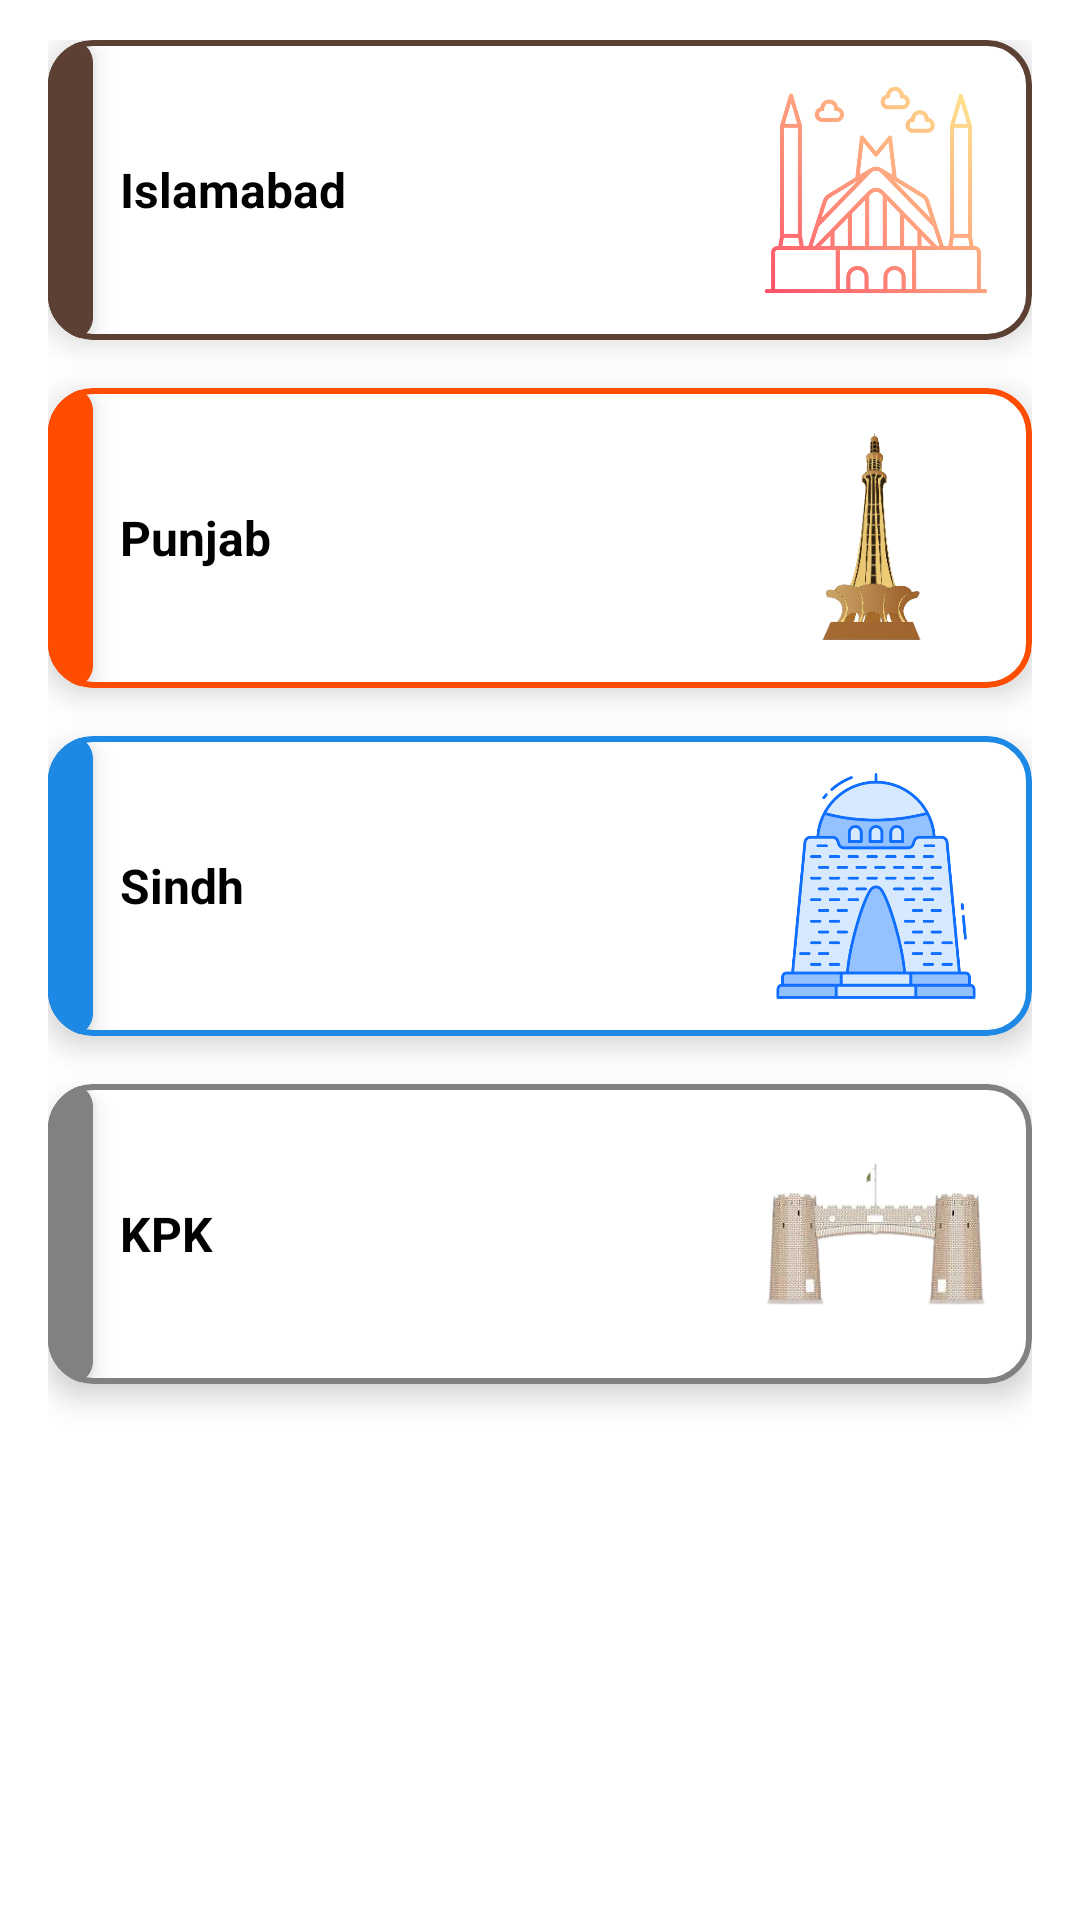

Screen size 1080×1920. Icon name, then its box in pixels as (x1, y1, x2, y2):
Islamabad Licensee Authority: (765, 87, 987, 293)
KPK Driving Lisence Authority: (768, 1164, 984, 1304)
Punjab Driving License Authority: (822, 433, 921, 640)
Sindh Driving Lisnce Authority: (776, 773, 976, 999)
